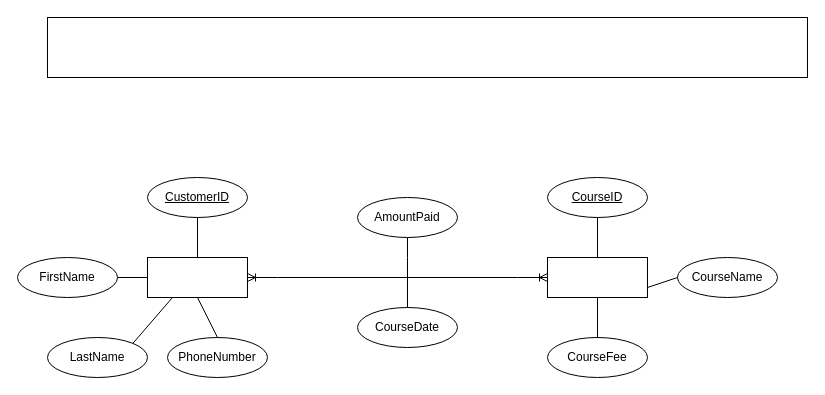
The diagram is 825 pixels wide and 395 high, and some of its shapes have lost their labels. Here are the shapes that lost their labels. From the top down, the centre of each, then its label:
the point at 427,47: Exam 2 Part 1 Question 3
the point at 197,277: Customers
the point at 597,277: Courses
